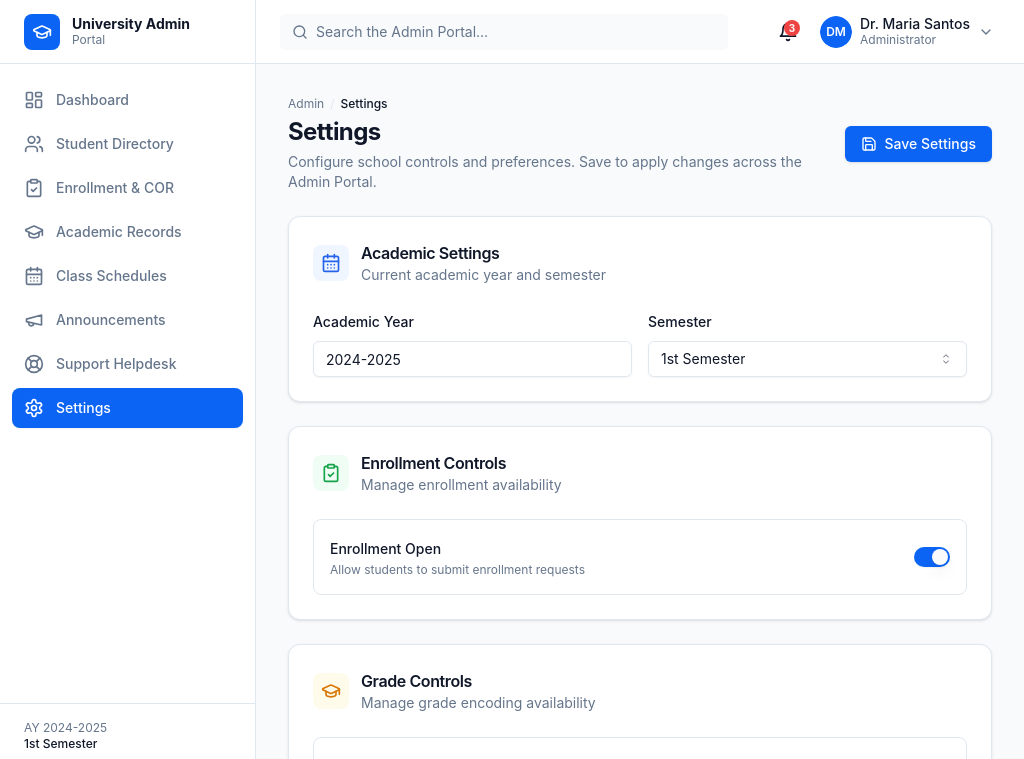
Scenario: form completion and cross-page consistency › propagates saved settings through navigation and disables grade editing
This screenshot has width=1024, height=759.
Replace the text in the field labelled "Academic Year" with "2026-2027" at (472, 359), box [313, 341, 632, 377]
(page scrolled)
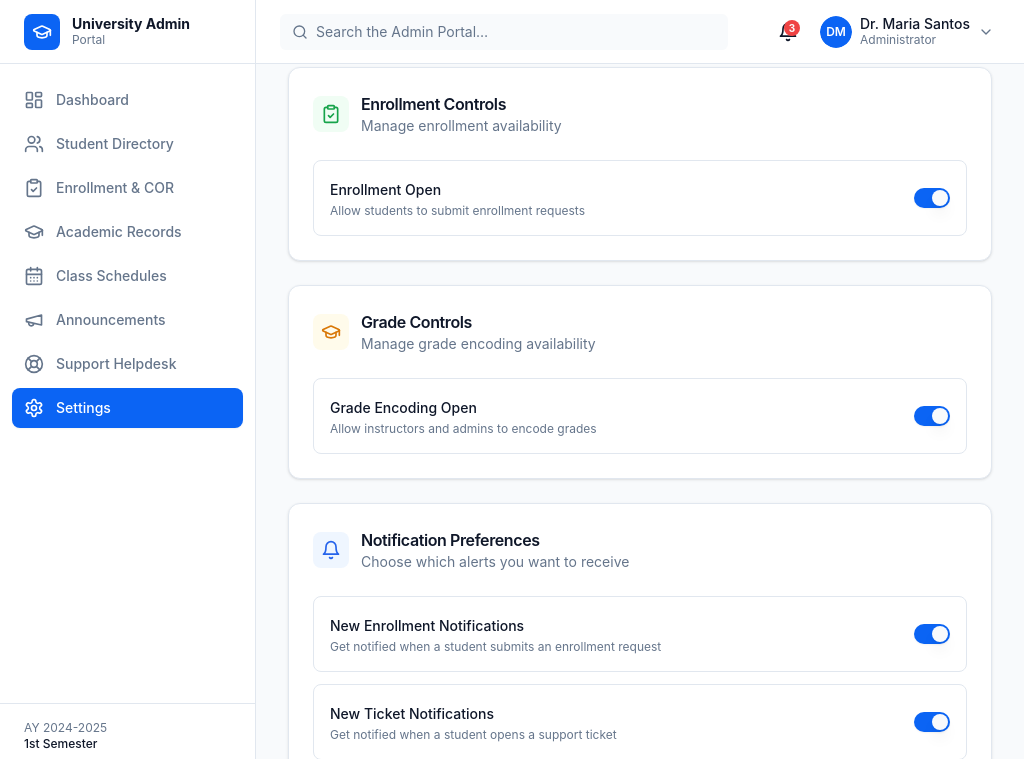
Click the switch named "Grade Encoding Open" in the row of "Grade Encoding Open" at (932, 416), box [914, 406, 950, 426]
(page scrolled)
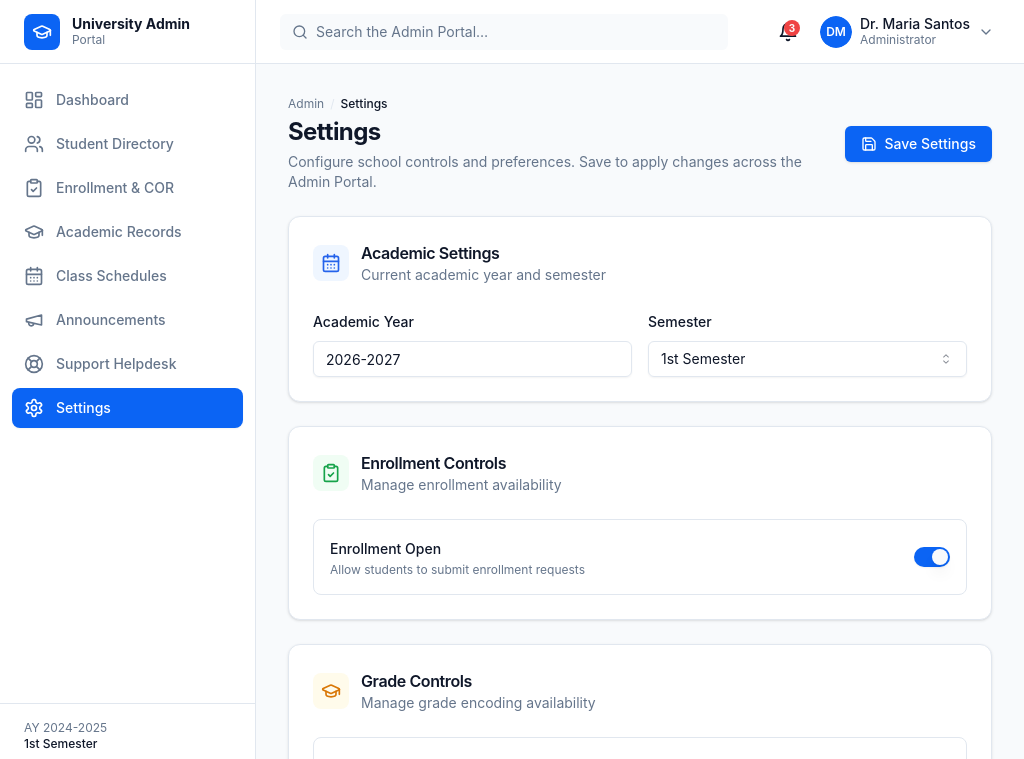
Click the button "Save Settings" at (918, 144), box [845, 126, 992, 162]
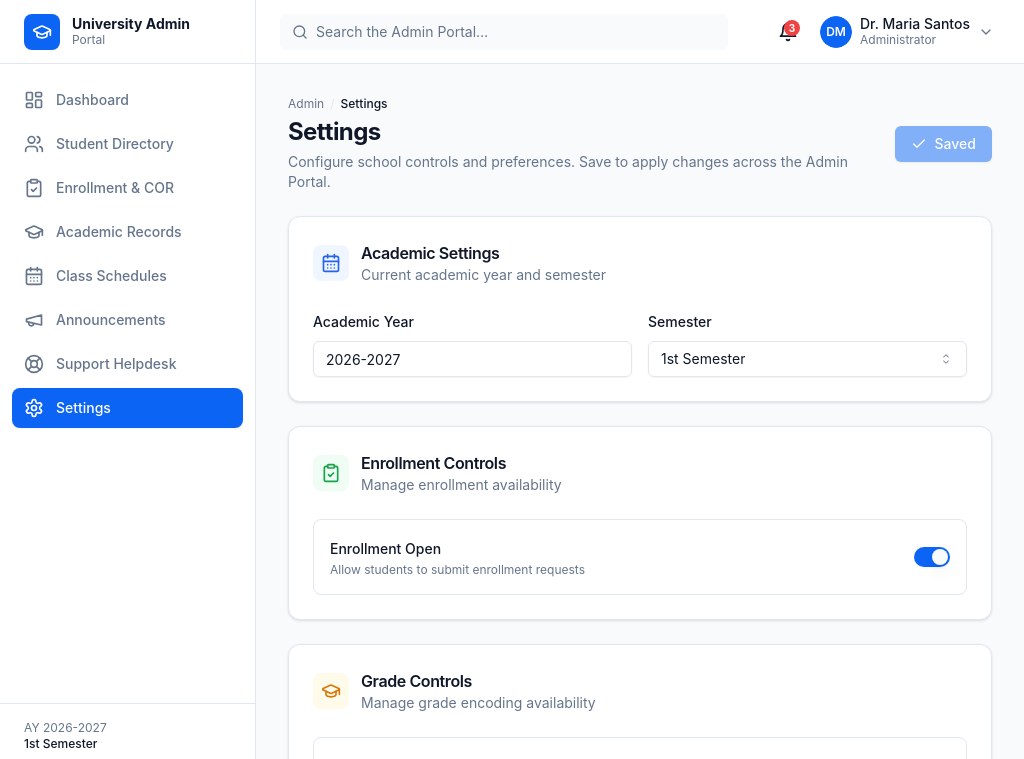
Click the link "Academic Records" at (103, 232), box [24, 222, 182, 242]
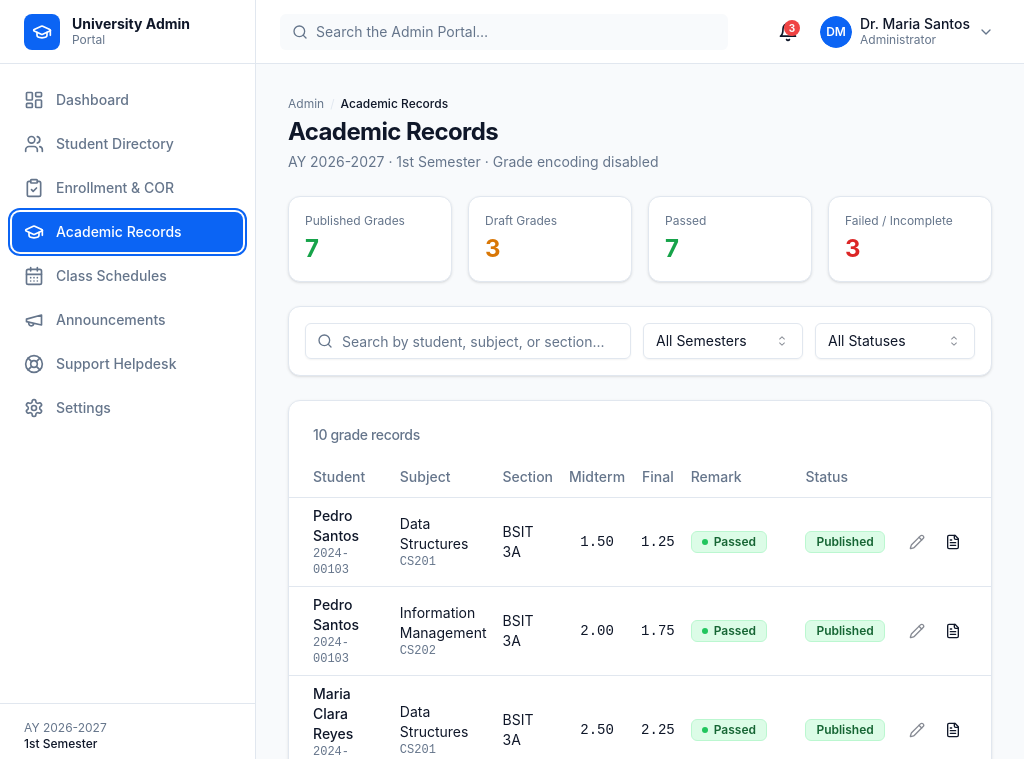
Result: the text "AY 2026-2027 · 1st Semester · Grade encoding disabled" is shown at [288, 152, 658, 172]
Result: the button named "Encode " is disabled at [901, 526, 933, 558]
